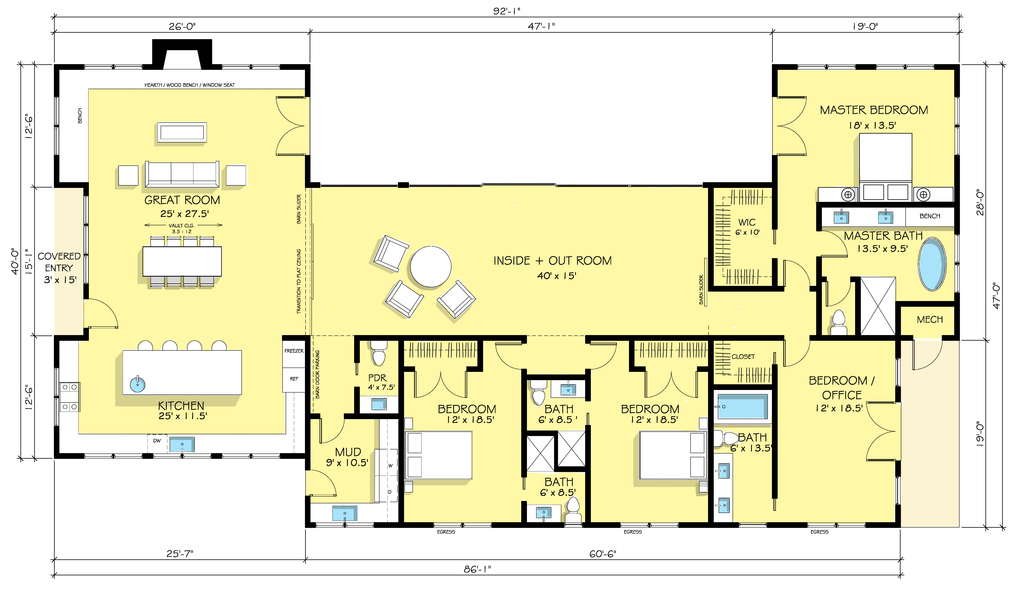door: (260, 92, 302, 159), (861, 396, 896, 466), (783, 93, 816, 162), (410, 375, 473, 403), (640, 373, 700, 400), (90, 293, 124, 332), (908, 343, 946, 374), (779, 342, 815, 369), (823, 229, 853, 261), (824, 231, 854, 263), (591, 340, 621, 368), (492, 341, 520, 371), (780, 256, 810, 284), (311, 467, 337, 499), (316, 419, 341, 446), (824, 285, 850, 310)
